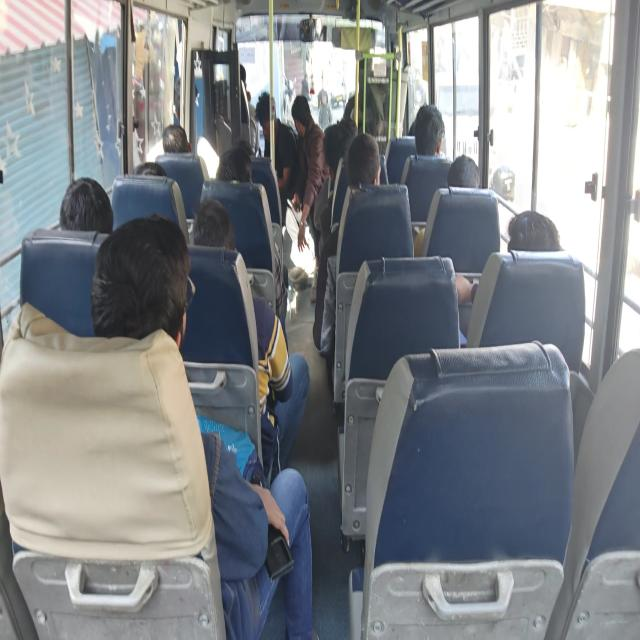person: (95, 258, 195, 348), (508, 215, 562, 267), (56, 182, 106, 228), (190, 214, 236, 259), (346, 140, 387, 190), (451, 153, 491, 203), (411, 109, 446, 151), (130, 152, 170, 188), (352, 42, 378, 92), (228, 54, 257, 92), (160, 123, 196, 153), (325, 119, 347, 164), (222, 156, 252, 188), (252, 98, 282, 126), (294, 97, 314, 136), (228, 136, 258, 161)
